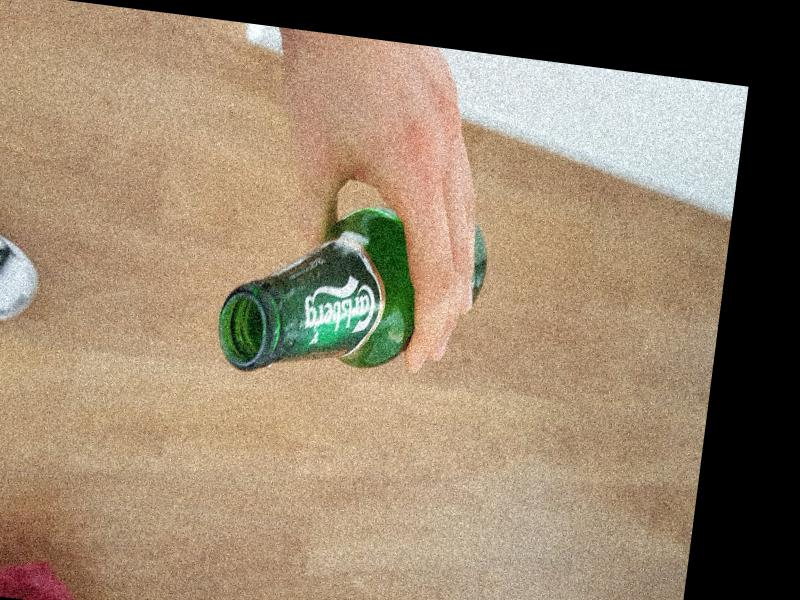Beer: (213, 190, 491, 401)
